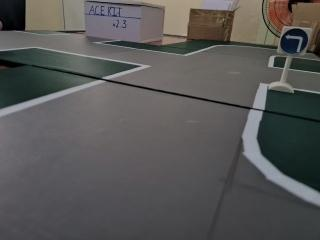left: (272, 22, 319, 60)
